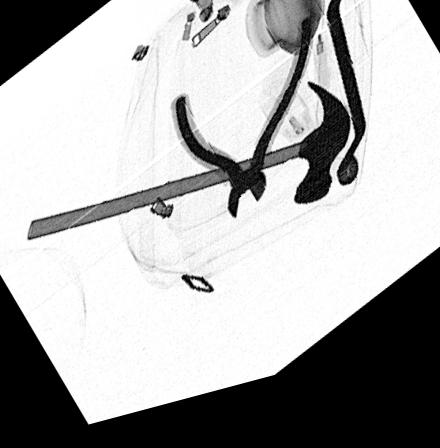Hammer: (26, 98, 350, 241)
Pliers: (168, 32, 310, 232)
Wrench: (321, 0, 366, 206)
